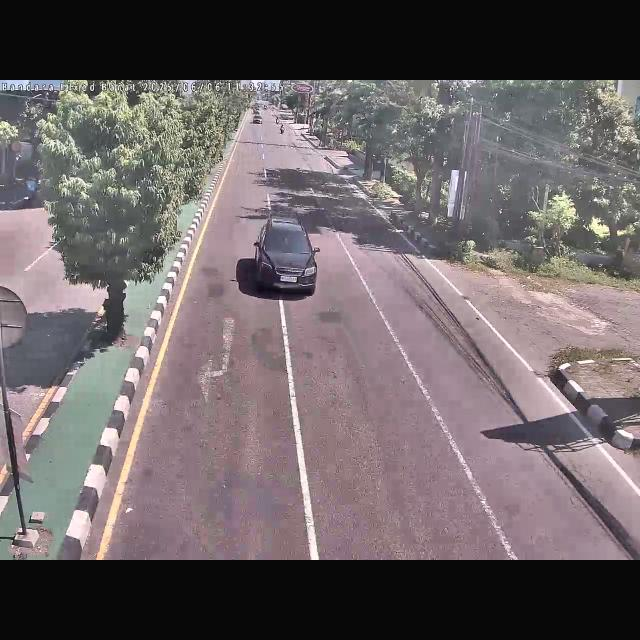Mobil: (253, 214, 320, 296)
